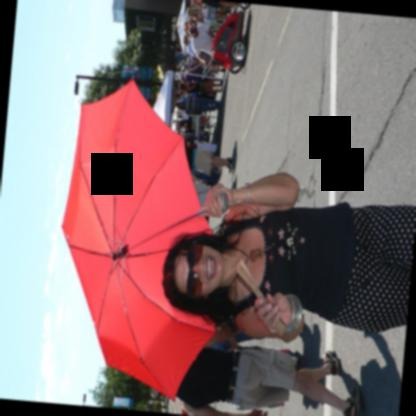handbag: (187, 139, 216, 153)
